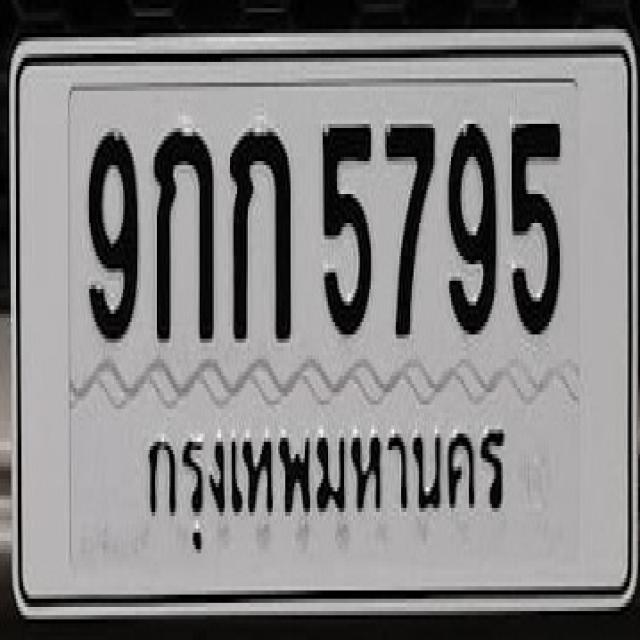license_plate: (7, 29, 640, 619)
